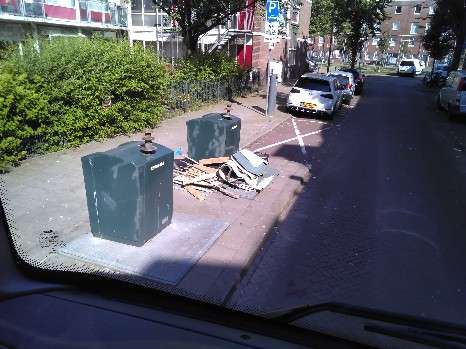Container: (84, 143, 194, 253), (191, 112, 241, 155)
Rest: (178, 148, 214, 202), (221, 153, 266, 196)
Voertuig: (296, 73, 346, 120), (345, 60, 371, 99), (449, 75, 466, 121), (402, 60, 431, 82)
